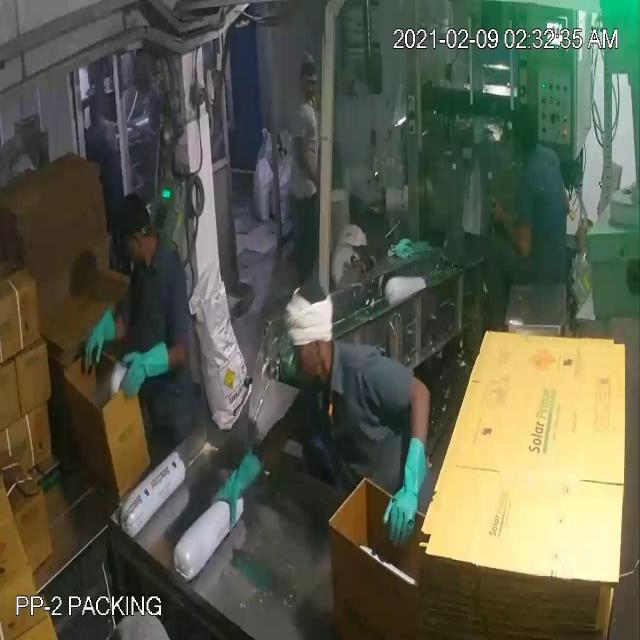Gloves: (33, 57, 507, 490)
